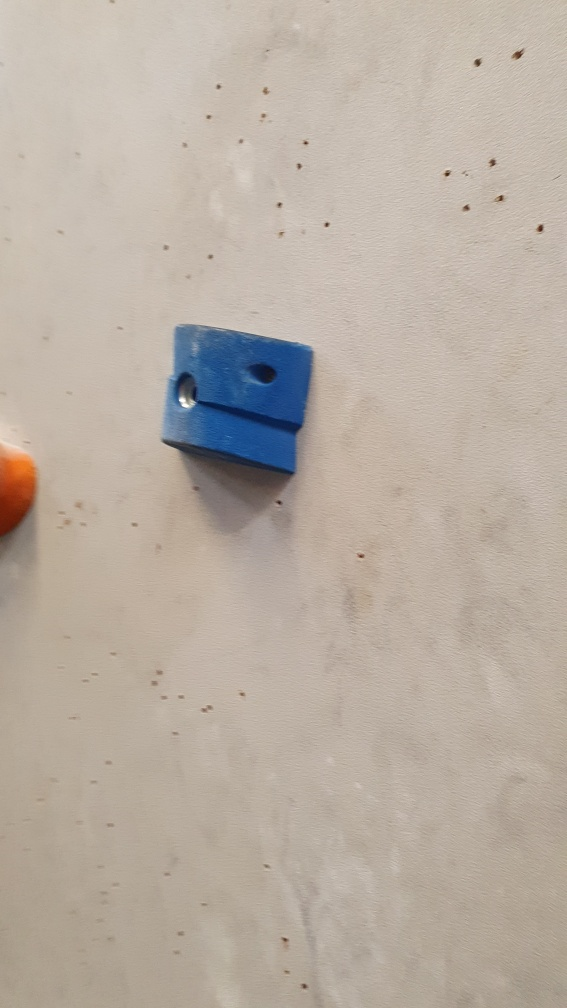Pinch: (154, 322, 319, 482)
